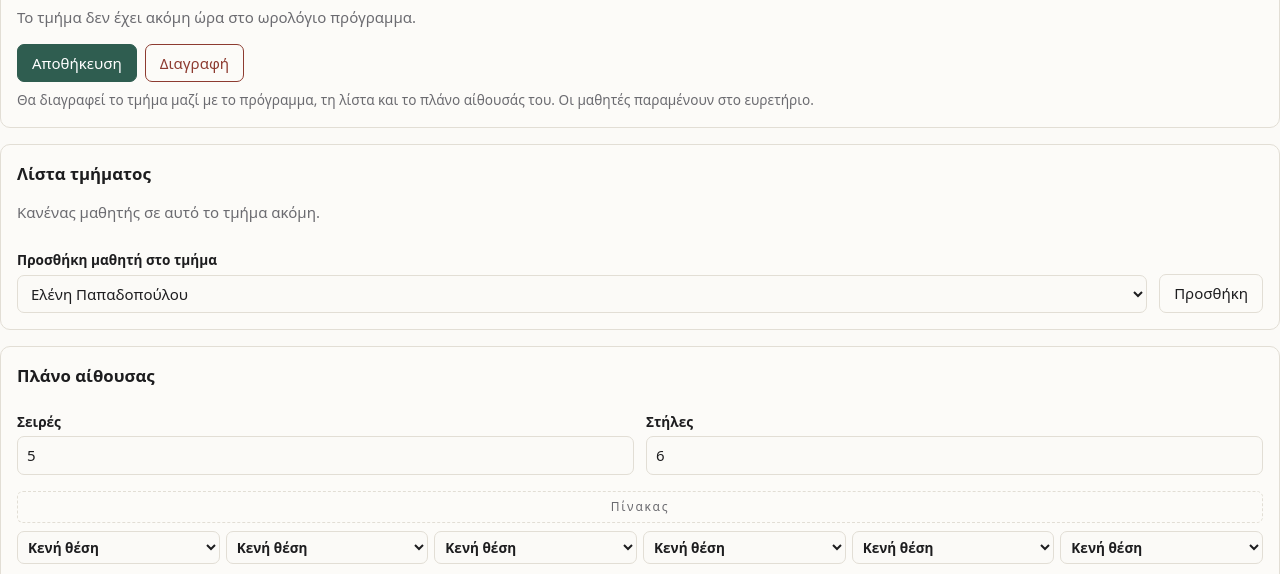
the classes screen › puts one student on two rosters, and shows her correctly in each
(page scrolled)
// Α1 is selected first. Add her there and flag her for support.
Select "Ελένη Παπαδοπούλου" in the dropdown labelled "Προσθήκη μαθητή στο τμήμα" at (582,294), box 17,275 -> 1147,313
Click the button "Προσθήκη" at (1211,293), box 1159,274 -> 1263,313
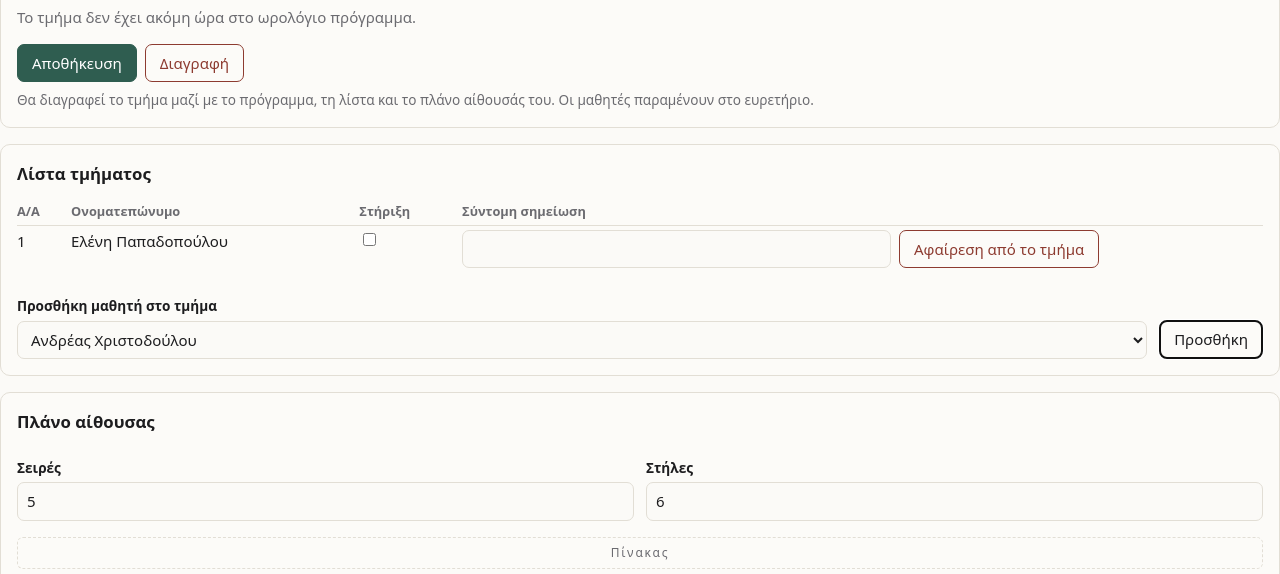
Expected: the cell "Ελένη Παπαδοπούλου" is shown, 71,225 -> 359,272
Click the checkbox named "Στήριξη" at (370,239), box 363,233 -> 376,246
(page scrolled)
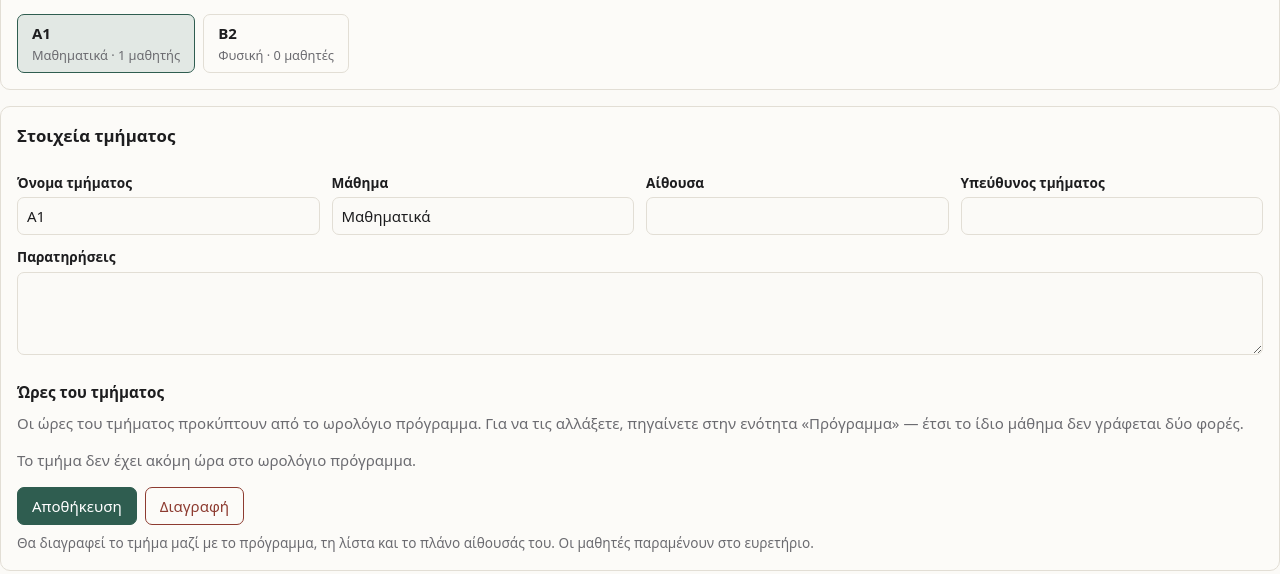
// Now the same student in Β2, without the support flag.
Click the button "Β2 Φυσική · 0 μαθητές" at (276,44), box 203,14 -> 349,73
(page scrolled)
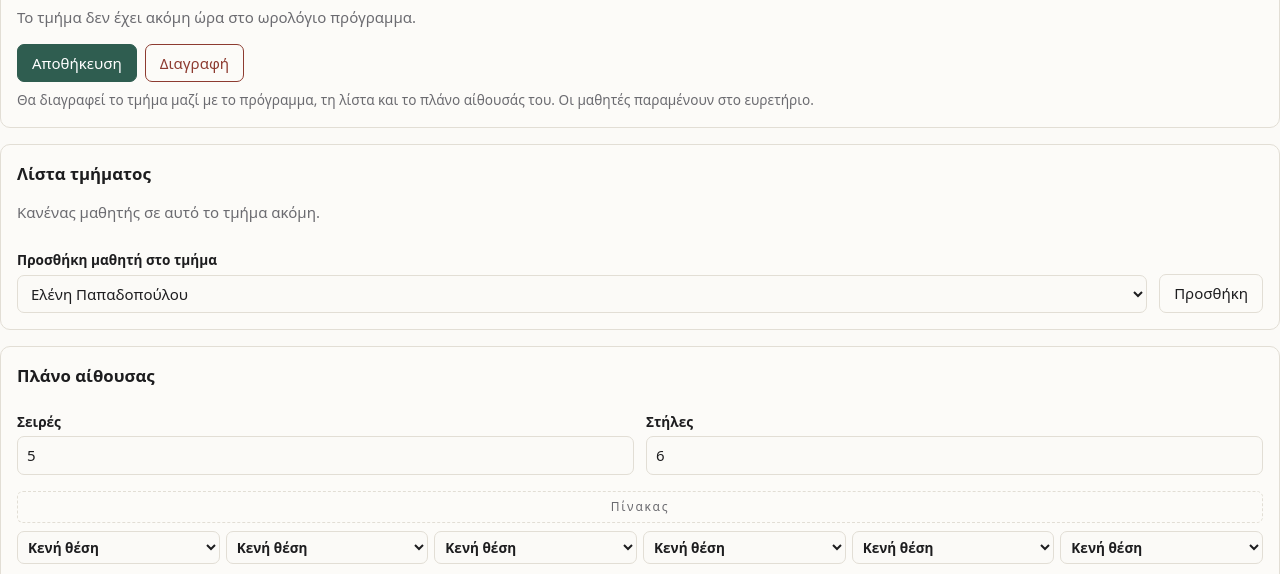
Select "Ελένη Παπαδοπούλου" in the dropdown labelled "Προσθήκη μαθητή στο τμήμα" at (582,294), box 17,275 -> 1147,313
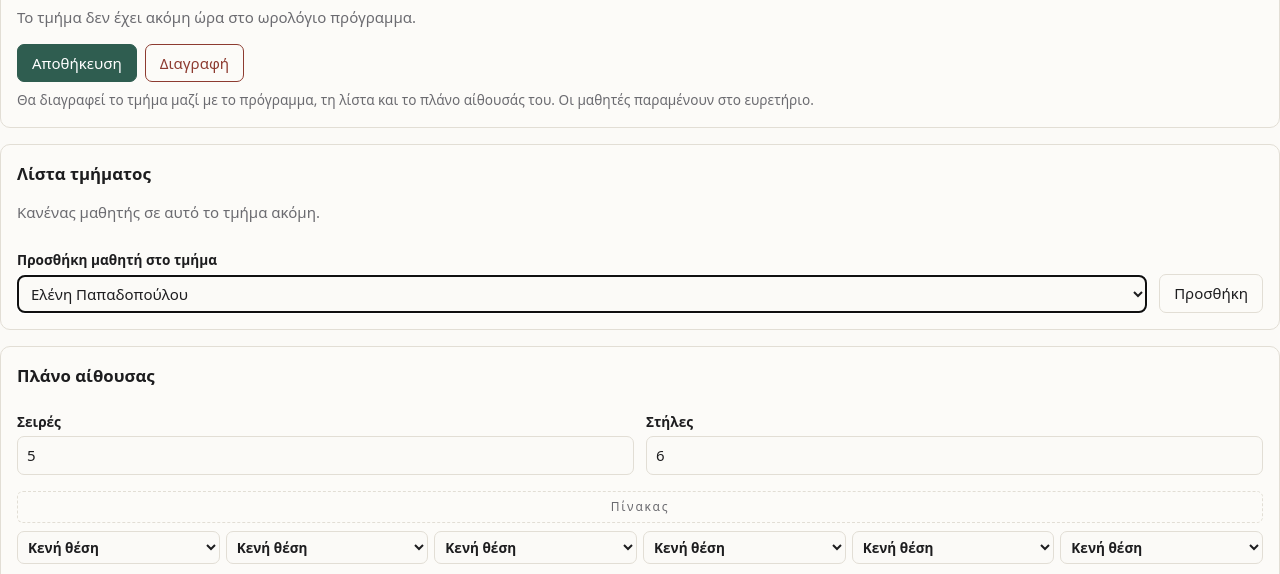
Click the button "Προσθήκη" at (1211,293), box 1159,274 -> 1263,313
(page scrolled)
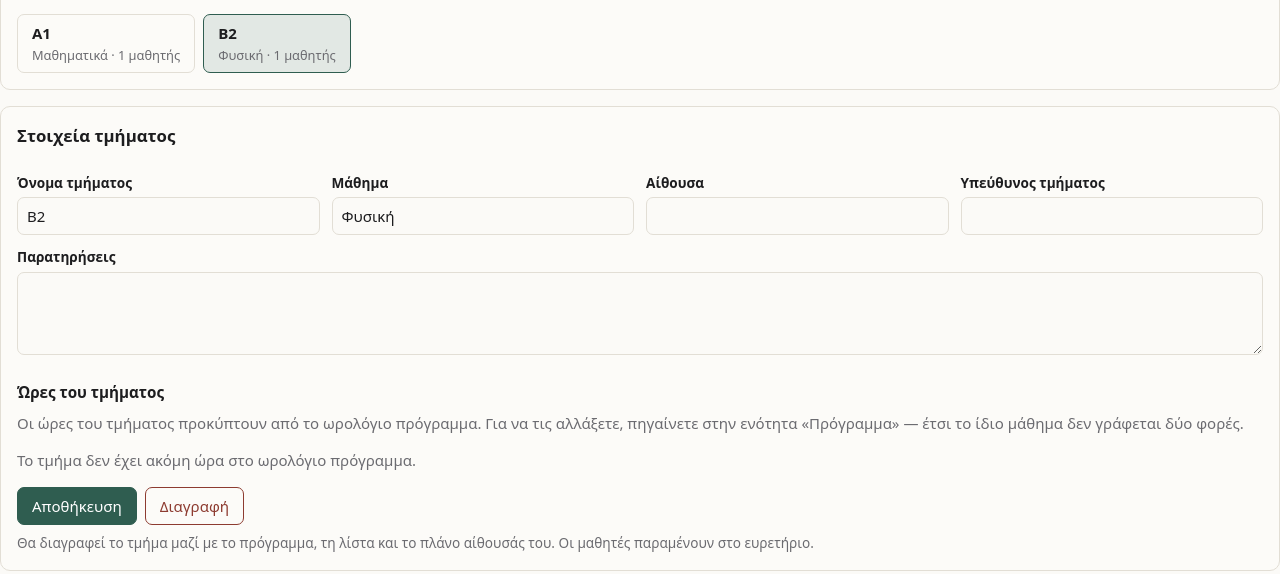
// Back in Α1 she is still flagged.
Click the button "Α1 Μαθηματικά · 1 μαθητής" at (106,44), box 17,14 -> 195,73
(page scrolled)
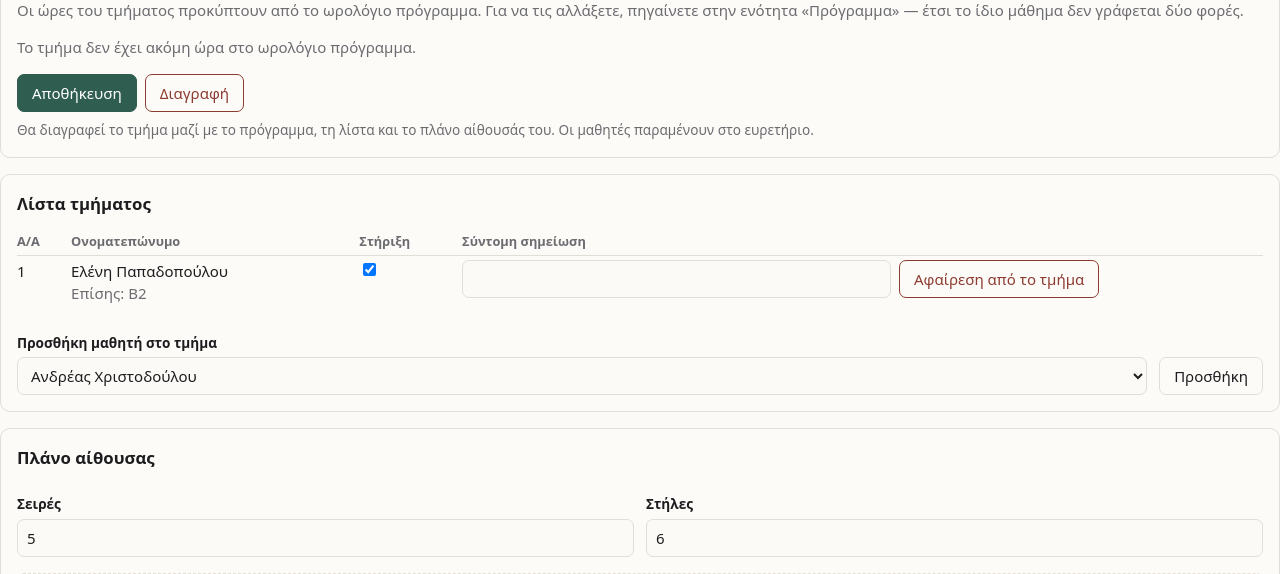
Expected: the checkbox named "Στήριξη" is checked, 363,263 -> 376,276
Expected: the text "Επίσης: Β2" is shown, 71,283 -> 147,303
